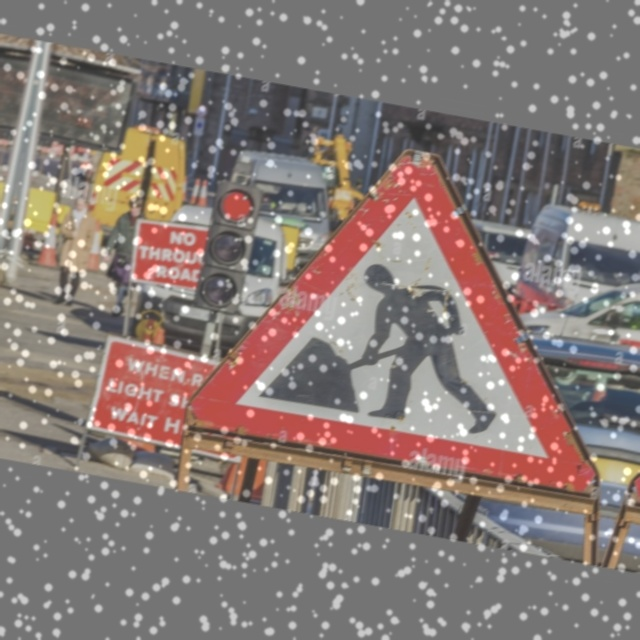Men_at_Work: (208, 134, 616, 499)
